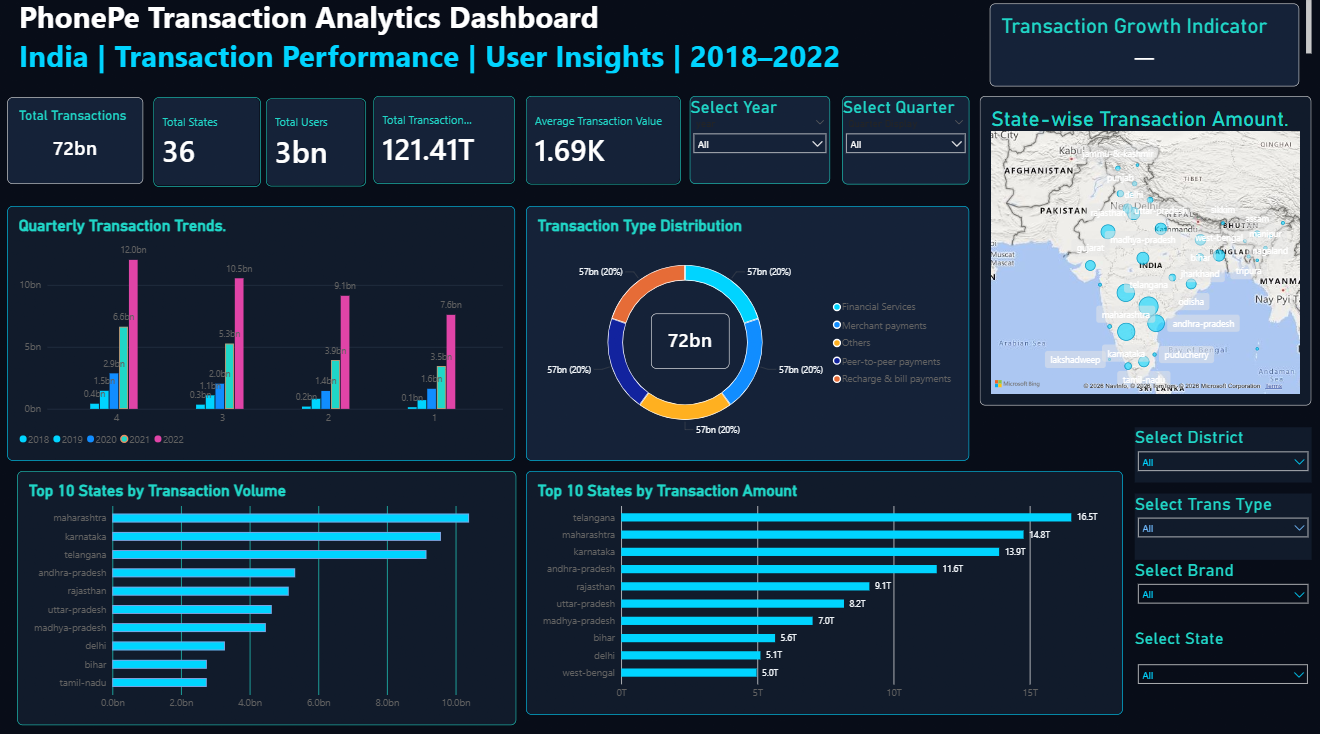

Layout of this report page (visuals, bound fields, positions):
{"tool":"powerbi","page":{"name":"Page 1","canvas":[1920,1080],"ordinal":0},"visuals":[{"type":"cardVisual","fields":{"Data":["DimQuarter.Total Transactions"]},"box":[0,144,160,128],"z":0},{"type":"cardVisual","fields":{"Data":["DimQuarter.Total Users"]},"box":[360,144,192,128],"z":1000},{"type":"cardVisual","fields":{"Data":["DimQuarter.Total Transaction Amount"]},"box":[528,144,224,128],"z":2000},{"type":"cardVisual","fields":{"Data":["DimQuarter.Average Transaction Value"]},"box":[768,144,256,128],"z":3000},{"type":"cardVisual","fields":{"Data":["DimQuarter.Total States"]},"box":[168,144,192,128],"z":4000},{"type":"clusteredColumnChart","title":"Quarterly Transaction Trends.","fields":{"Category":["aggregated_transaction.quarter"],"Series":["aggregated_transaction.year"],"Y":["Sum(aggregated_transaction.trans_counts)"]},"box":[16,304,736,176],"z":5000},{"type":"barChart","title":"Top 10 States by Transaction Volume","fields":{"Category":["top_transaction.states"],"Y":["Sum(top_transaction.trans_counts)"]},"box":[16,688,736,160],"z":6000},{"type":"listSlicer","title":"Select Quarter","fields":{"Values":["DimQuarter.quarter"]},"box":[1200,144,208,128],"z":7000},{"type":"listSlicer","title":"Select Year","fields":{"Values":["DimYear.year"]},"box":[1008,144,192,128],"z":8000},{"type":"clusteredBarChart","title":"Top 10 Districts by Transaction Amount","fields":{"Category":["top_transaction.district"],"Y":["Sum(top_transaction.amount)"]},"box":[784,496,848,176],"z":9000},{"type":"lineChart","title":"Yearly Transaction Volume Trends","fields":{"Category":["top_transaction.year"],"Y":["Sum(top_transaction.trans_counts)"]},"box":[784,872,848,208],"z":10000},{"type":"clusteredColumnChart","title":"Yearly Transaction Amount Trends","fields":{"Category":["top_transaction.year"],"Y":["Sum(top_transaction.amount)"]},"box":[16,872,736,208],"z":11000},{"type":"clusteredBarChart","title":"Top 10 Districts by Registered Users","fields":{"Category":["top_user.district"],"Y":["Sum(top_user.registered_user_counts)"]},"box":[16,496,740,170],"z":12000},{"type":"donutChart","title":"Transaction Type Distribution","fields":{"Category":["aggregated_transaction.trans_type"],"Y":["Sum(top_transaction.trans_counts)"]},"box":[784,304,848,176],"z":13000},{"type":"clusteredBarChart","title":"Top 10 States by Transaction Amount","fields":{"Category":["top_transaction.states"],"Y":["Sum(aggregated_transaction.amount)"]},"box":[784,688,848,176],"z":14000},{"type":"textbox","box":[24,0,1248,120],"z":15000},{"type":"map","title":"State-wise Transaction Amount.","fields":{"Category":["top_transaction.states"],"Size":["Sum(top_transaction.amount)"]},"box":[1408,0,480,304],"z":16000},{"type":"slicer","title":"State","fields":{"Values":["DimState.State"]},"box":[1648,304,256,96],"z":17000},{"type":"slicer","title":"District","fields":{"Values":["top_transaction.district"]},"box":[1648,384,256,80],"z":18000},{"type":"slicer","title":"Trans Type","fields":{"Values":["aggregated_transaction.trans_type"]},"box":[1648,496,256,96],"z":19000},{"type":"slicer","title":"Brand","fields":{"Values":["aggregated_user.brand"]},"box":[1648,576,256,96],"z":20000},{"type":"cardVisual","title":"YoY Transaction Growth","fields":{"Data":["YoY Transaction Growth %.YoY Growth Test"]},"box":[1648,672,272,288],"z":21000}]}

Visuals, with their boxes in screenshot pixels (x1, y1, x2, y2), scaled from the page's 1920x1080 canvas onto the 1320x734 screenshot:
cardVisual - DimQuarter.Total Transactions: Rect(0, 98, 110, 185)
cardVisual - DimQuarter.Total Users: Rect(248, 98, 380, 185)
cardVisual - DimQuarter.Total Transaction Amount: Rect(363, 98, 517, 185)
cardVisual - DimQuarter.Average Transaction Value: Rect(528, 98, 704, 185)
cardVisual - DimQuarter.Total States: Rect(116, 98, 248, 185)
"Quarterly Transaction Trends." clusteredColumnChart: Rect(11, 207, 517, 326)
"Top 10 States by Transaction Volume" barChart: Rect(11, 468, 517, 576)
"Select Quarter" listSlicer: Rect(825, 98, 968, 185)
"Select Year" listSlicer: Rect(693, 98, 825, 185)
"Top 10 Districts by Transaction Amount" clusteredBarChart: Rect(539, 337, 1122, 457)
"Yearly Transaction Volume Trends" lineChart: Rect(539, 593, 1122, 733)
"Yearly Transaction Amount Trends" clusteredColumnChart: Rect(11, 593, 517, 733)
"Top 10 Districts by Registered Users" clusteredBarChart: Rect(11, 337, 520, 453)
"Transaction Type Distribution" donutChart: Rect(539, 207, 1122, 326)
"Top 10 States by Transaction Amount" clusteredBarChart: Rect(539, 468, 1122, 587)
textbox: Rect(16, 0, 874, 82)
"State-wise Transaction Amount." map: Rect(968, 0, 1298, 207)
"State" slicer: Rect(1133, 207, 1309, 272)
"District" slicer: Rect(1133, 261, 1309, 315)
"Trans Type" slicer: Rect(1133, 337, 1309, 402)
"Brand" slicer: Rect(1133, 391, 1309, 457)
"YoY Transaction Growth" cardVisual: Rect(1133, 457, 1319, 652)
